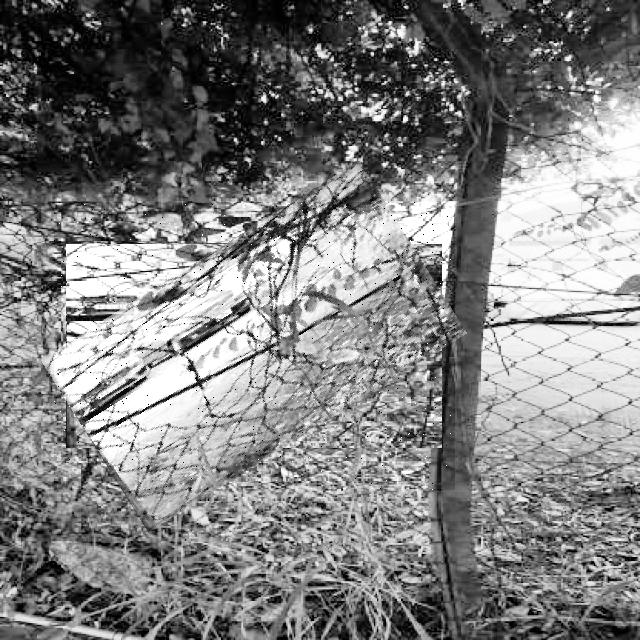anomaly-fence: (54, 202, 455, 490)
